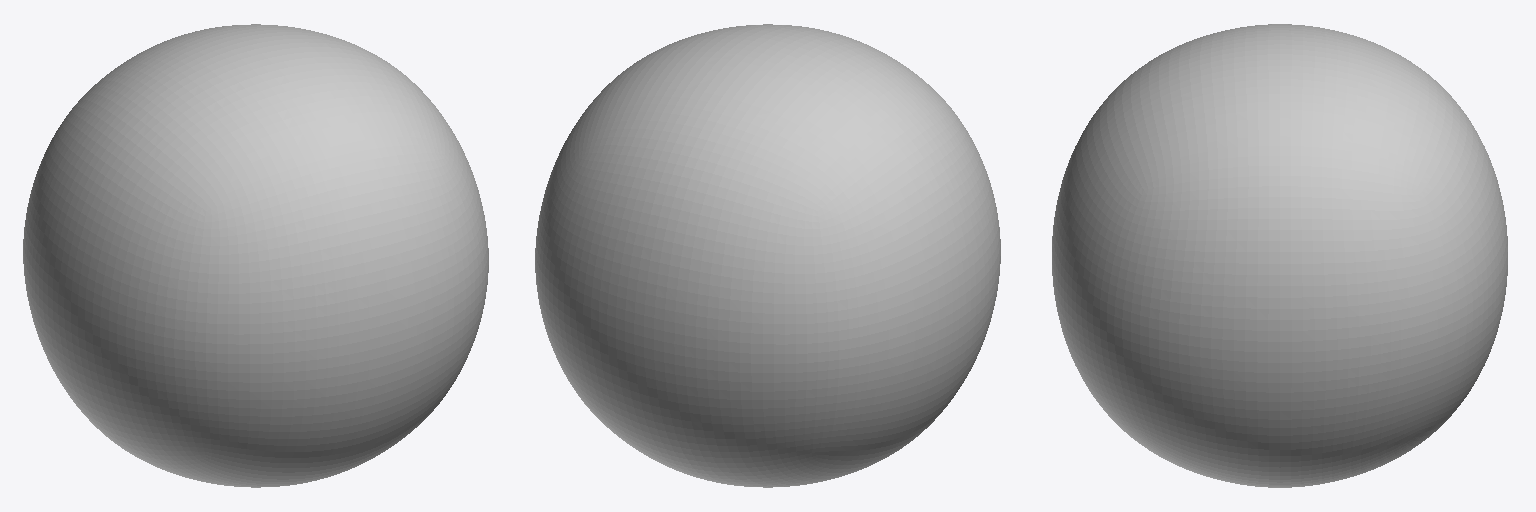
The model's file is ball1.obj.
The picture shows the model from 3 angles: view 1: azimuth 30°, elevation 25°; view 2: azimuth 150°, elevation 25°; view 3: azimuth 270°, elevation 25°; orthographic projection.
Visible parts, largest first — view 1: Cube_Куб.001; view 2: Cube_Куб.001; view 3: Cube_Куб.001.
Part boxes in pixels (left/top/right/bottom): Cube_Куб.001: left=23, top=24, right=488, bottom=487; Cube_Куб.001: left=535, top=24, right=1000, bottom=487; Cube_Куб.001: left=1052, top=24, right=1507, bottom=487.
Bounding box in the file's own units: 2.2 × 2.2 × 2.2.